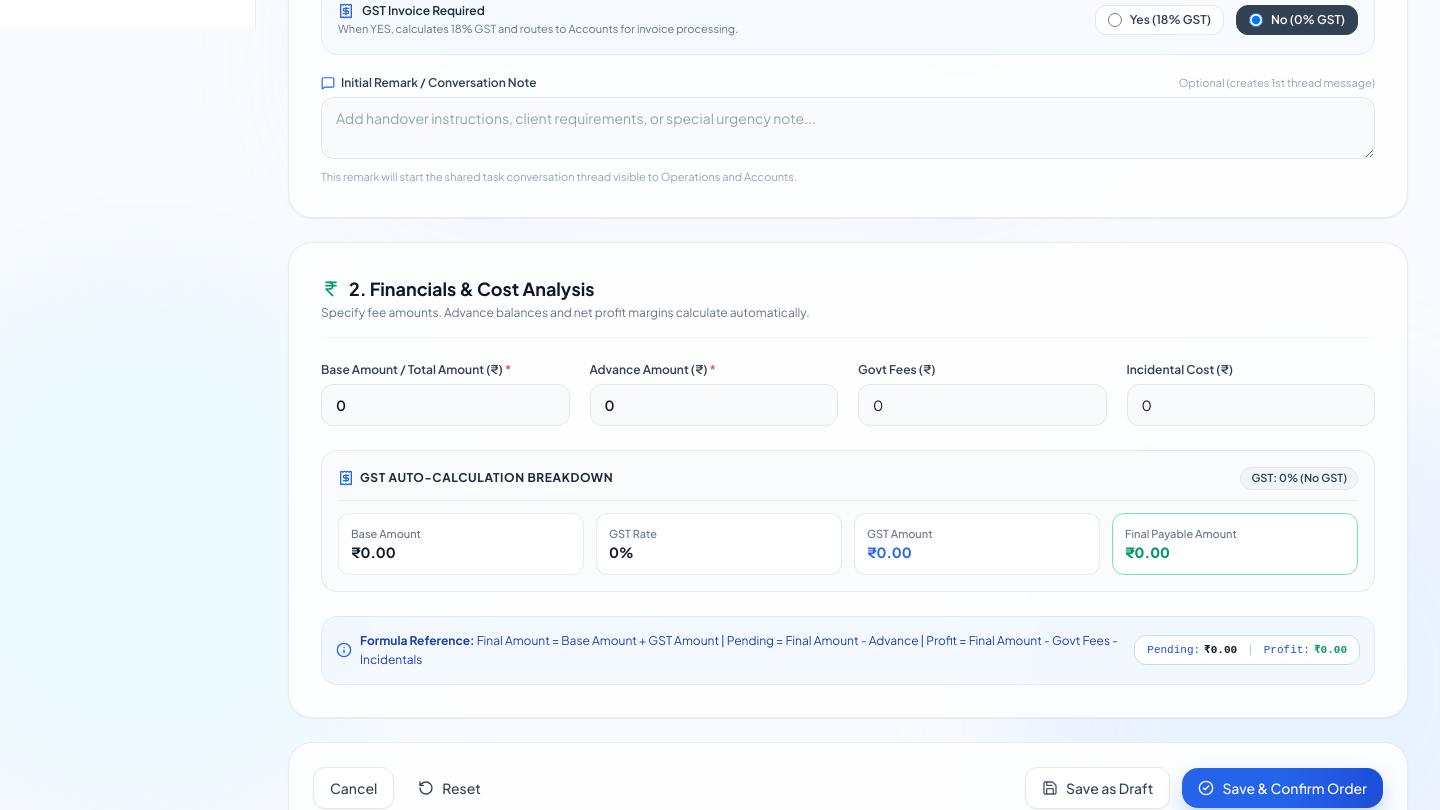
Scenario: Sales Entry & Sales Register Module Tests › validates Advance Amount cannot exceed Total Amount
The image size is (1440, 810).
(page scrolled)
Type "10000" into the number field labelled "Base Amount / Total Amount (₹) *".
click(445, 405); type("10000")  # box [321,384,570,426]
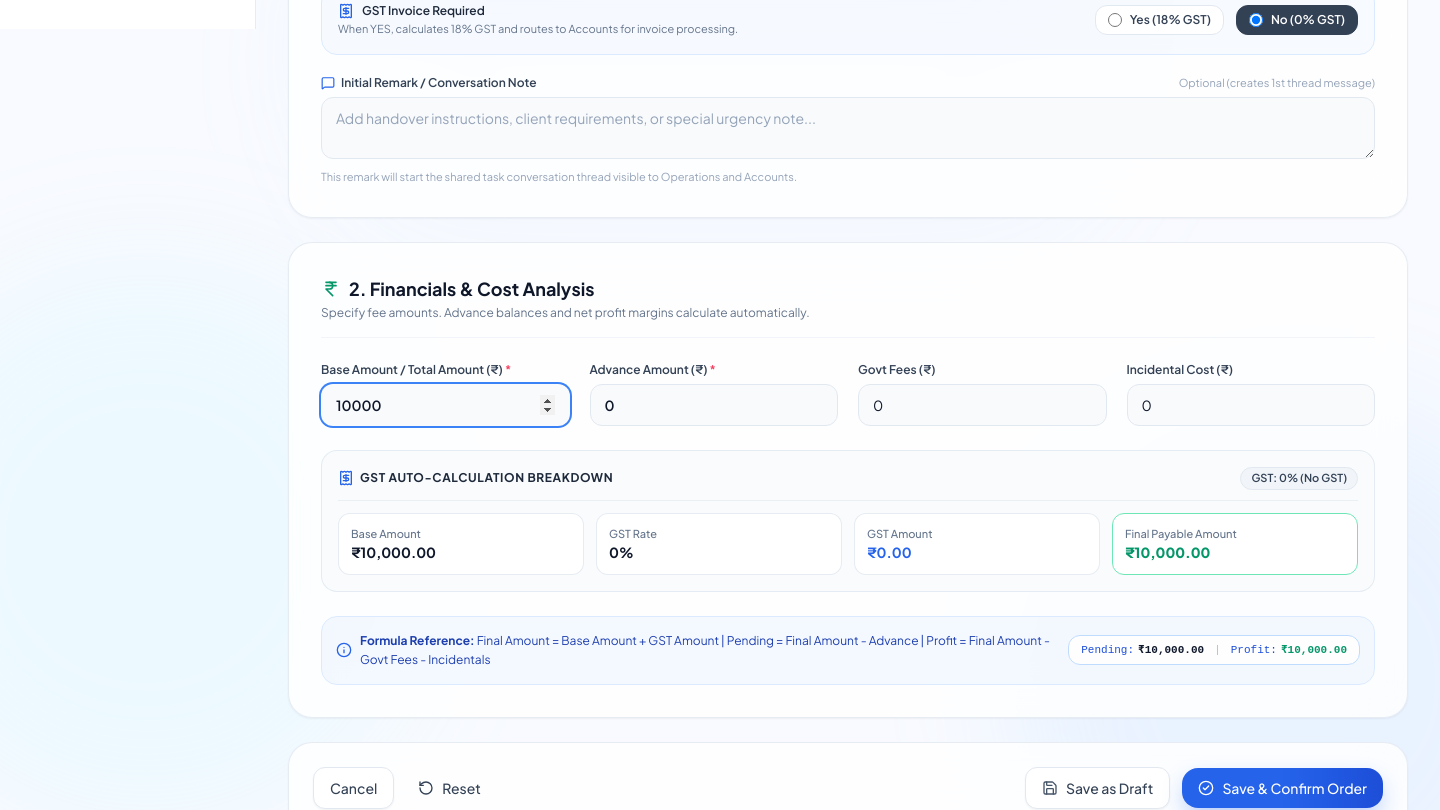
Type "15000" into the number field labelled "Advance Amount (₹) *".
click(714, 405); type("15000")  # box [590,384,838,426]
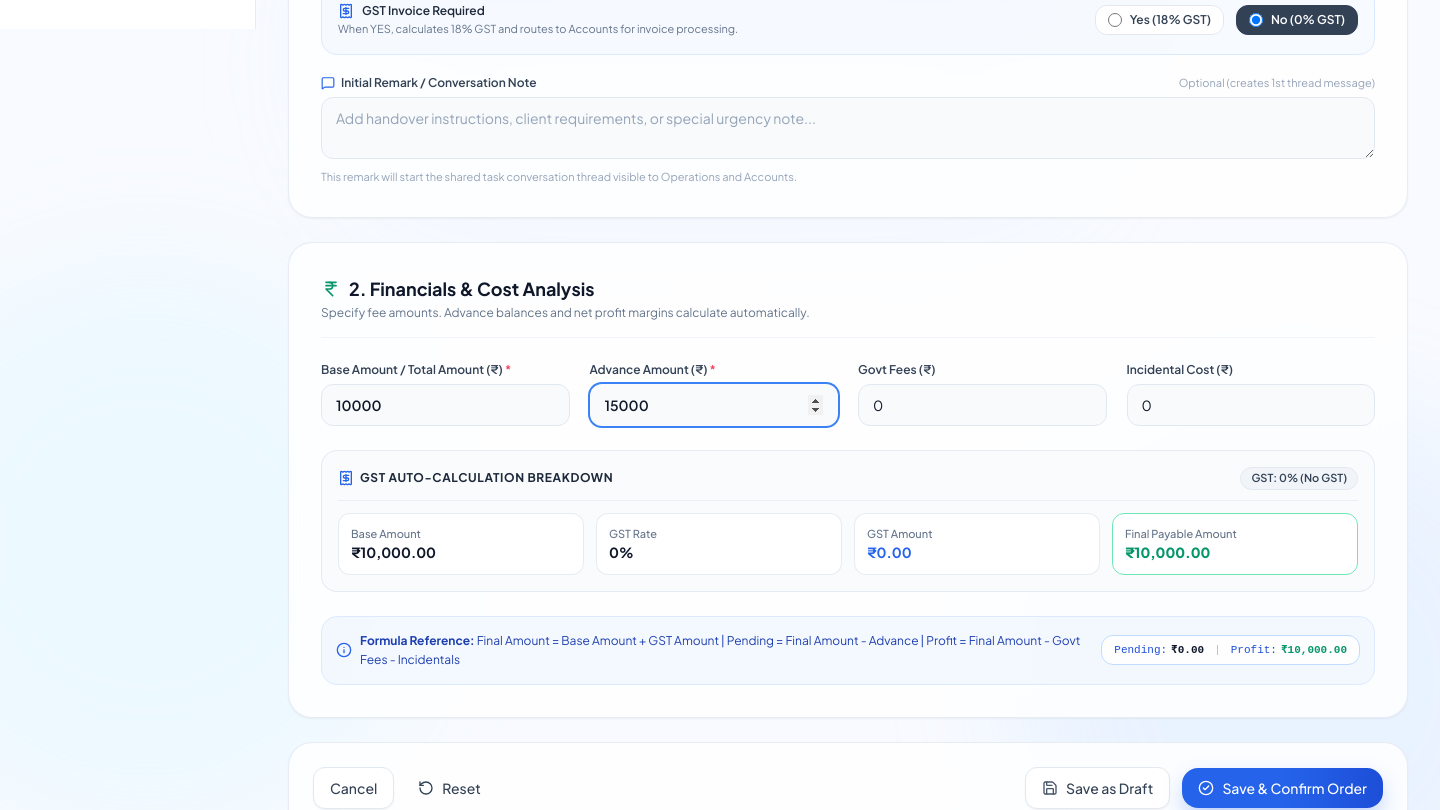
// Click "Save & Confirm Order"
Click the button "Save & Confirm Order".
click(1283, 788)  # box [1182,768,1383,808]
(page scrolled)
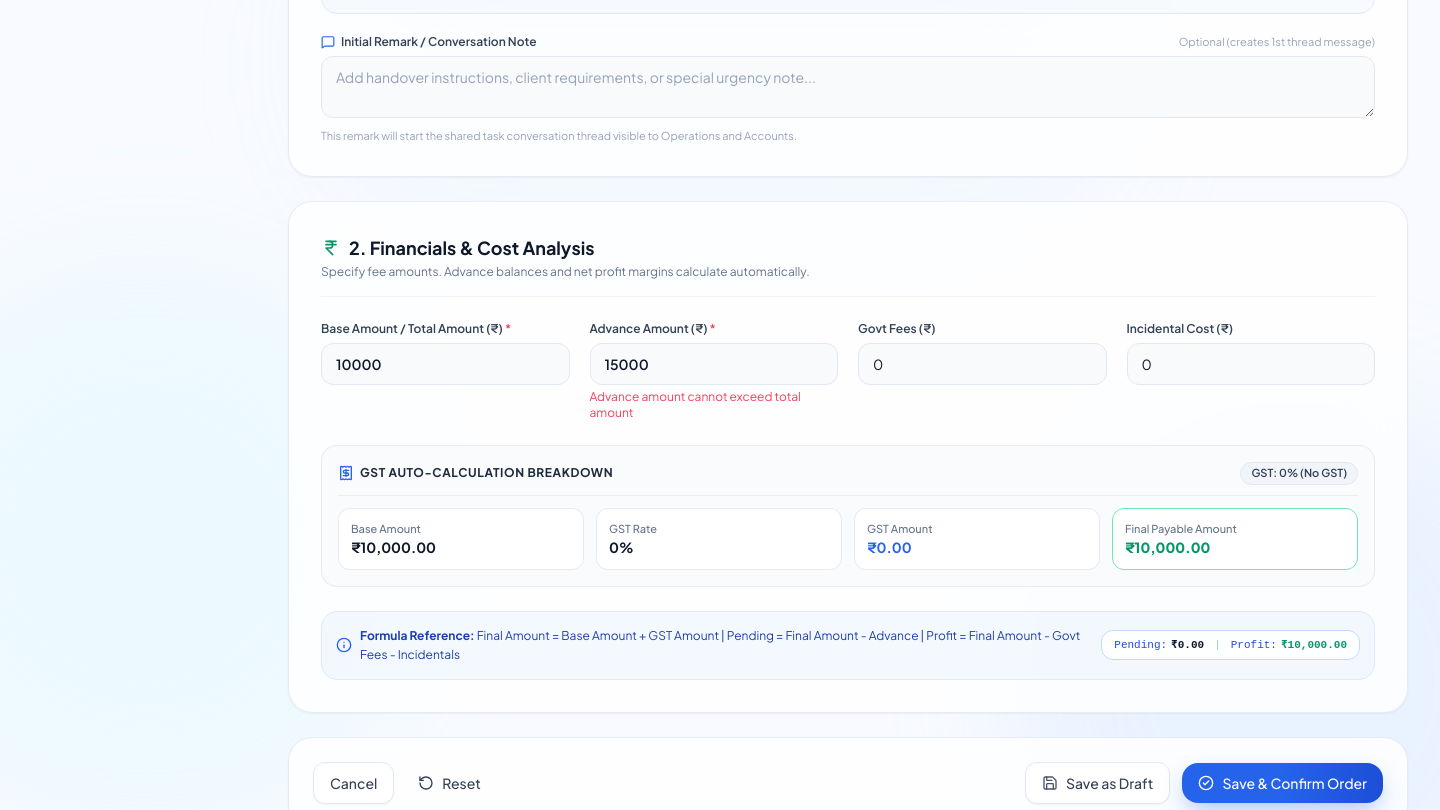
Expected: the text "Advance amount cannot exceed total amount" is shown, [590,389,838,421]
